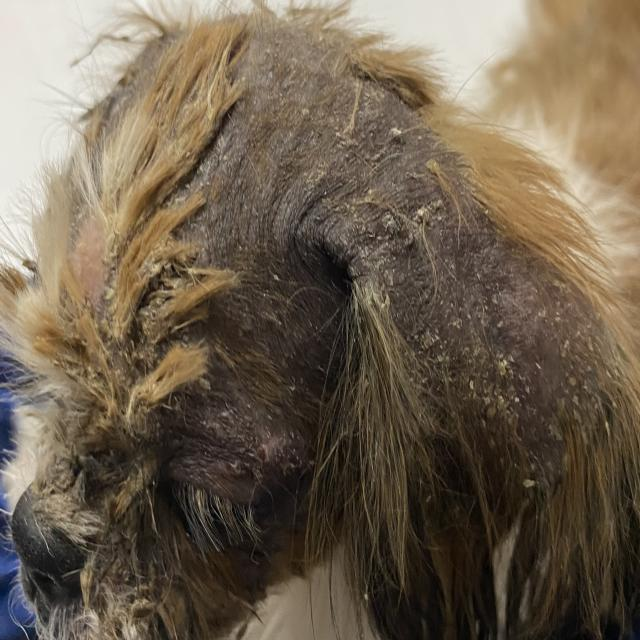demodicosis: (225, 54, 420, 272), (430, 220, 587, 470)
